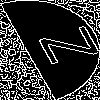Z: (25, 25, 100, 71)
